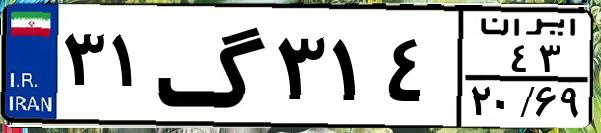0: (495, 70, 520, 125)
1: (330, 28, 385, 110), (110, 28, 156, 98)
2: (470, 70, 495, 125)
3: (270, 28, 330, 110), (57, 26, 110, 100), (537, 27, 568, 80)
4: (385, 28, 445, 110), (508, 27, 537, 80)
6: (535, 70, 560, 125)
9: (560, 70, 590, 125)
گ: (156, 12, 270, 120)
